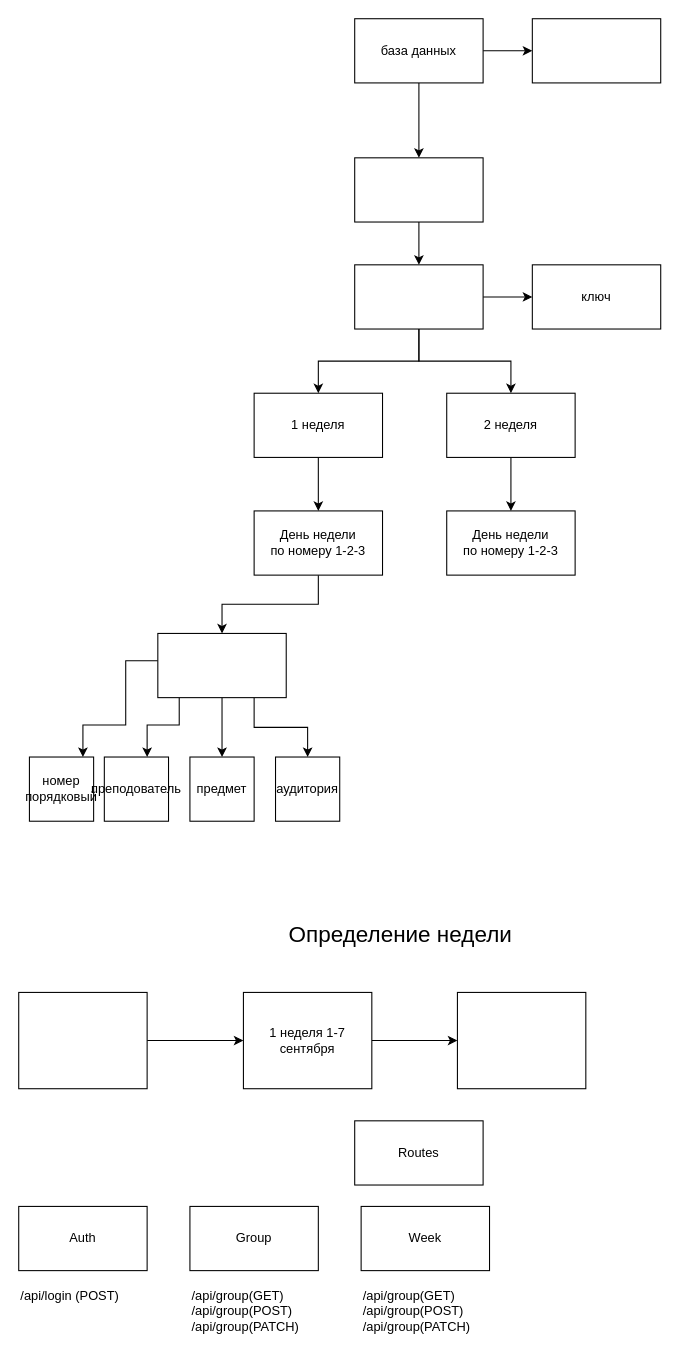
The diagram is 679 pixels wide and 1364 high, and some of its shapes have lost their labels. Each missing label, with the centre of its shape:
"группа" belongs at point 418,296.
"ключи" belongs at point 596,50.
"неделя(кол-во недель между стартовой и искмой неделей)" belongs at point 521,1040.
"пара" belongs at point 221,665.
"расписание" belongs at point 418,189.
"стартовая дата вшита в приложение" belongs at point 82,1040.
